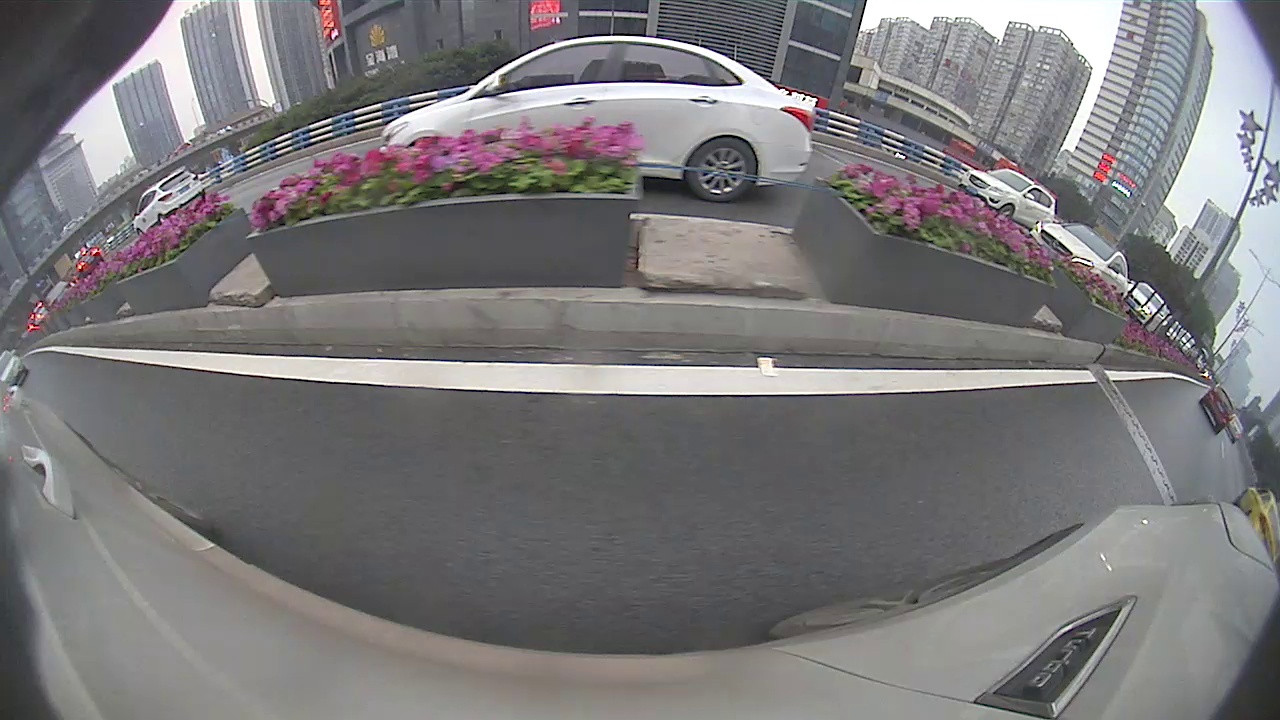car: (378, 36, 819, 203), (959, 166, 1057, 224), (133, 167, 206, 239), (1199, 383, 1238, 436)
front: (997, 202, 1018, 221)
rear: (685, 135, 760, 204)
